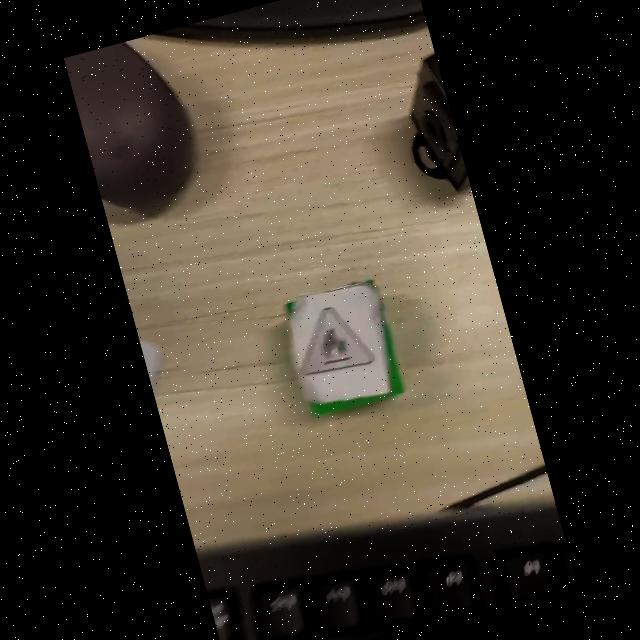Fire: (301, 306, 373, 376)
